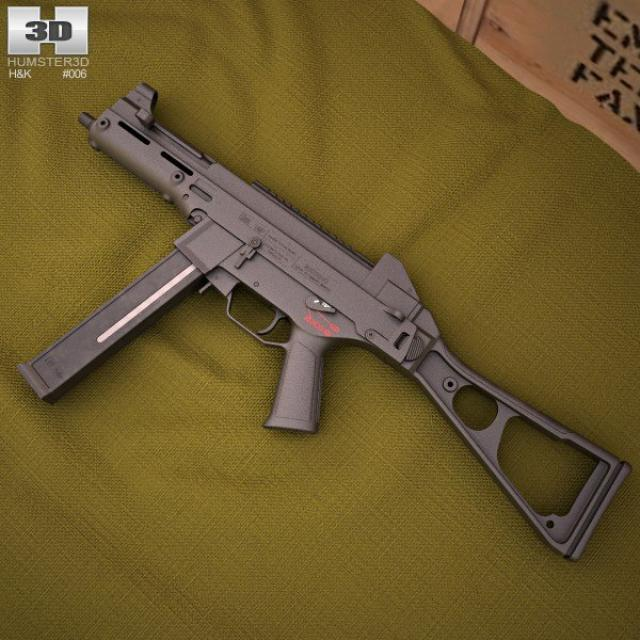SMG: (17, 84, 631, 563)
